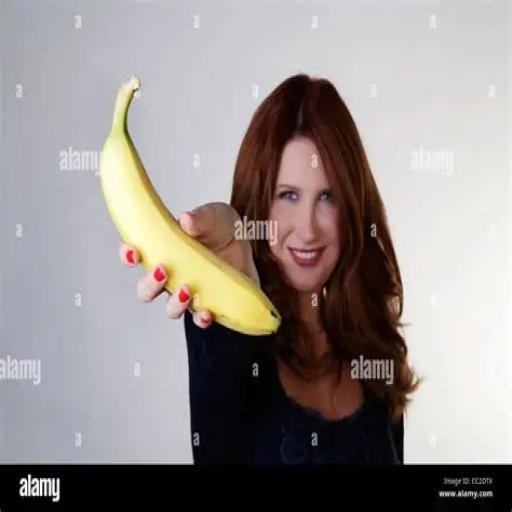banana: (100, 74, 281, 335)
